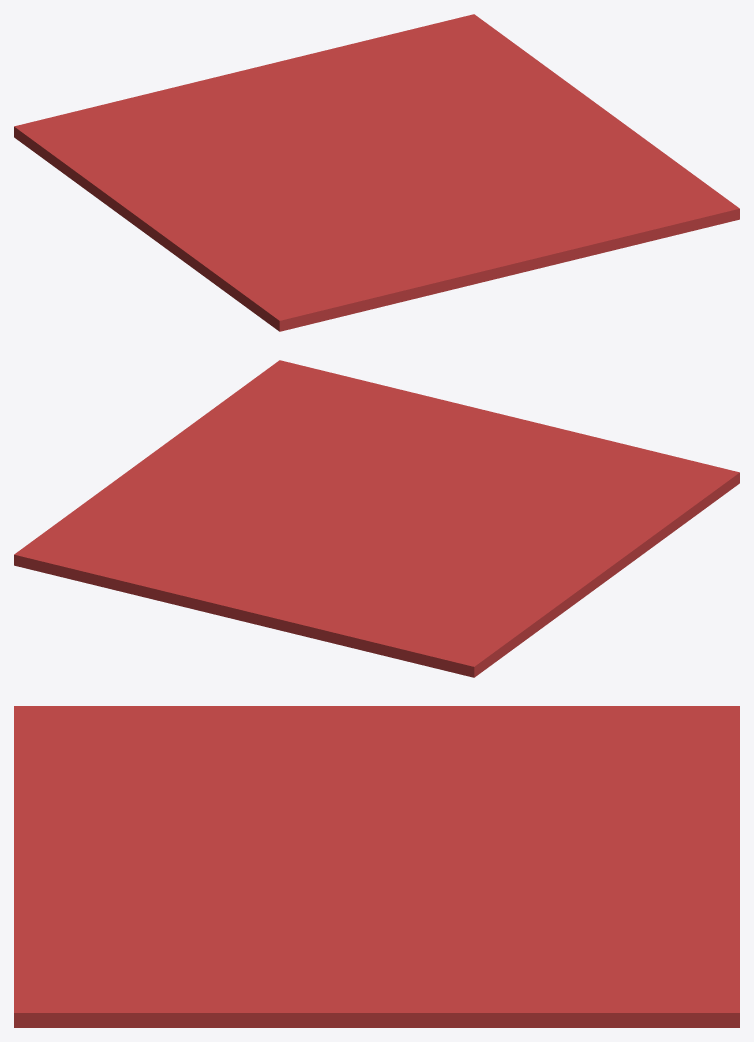
The model's file is roof.fbx.
3 renders of one model, top to bottom at view 1: azimuth 30°, elevation 25°; view 2: azimuth 150°, elevation 25°; view 3: azimuth 270°, elevation 25°, orthographic. The views are drawn at different scales.
Visible parts, largest first — view 1: Warehouse cube.002; view 2: Warehouse cube.002; view 3: Warehouse cube.002.
Part boxes in pixels (<box>): Warehouse cube.002: <box>14,14,739,331</box>; Warehouse cube.002: <box>14,360,739,677</box>; Warehouse cube.002: <box>14,706,739,1027</box>.
Size of the model in its own units: 440 by 10 by 440.
